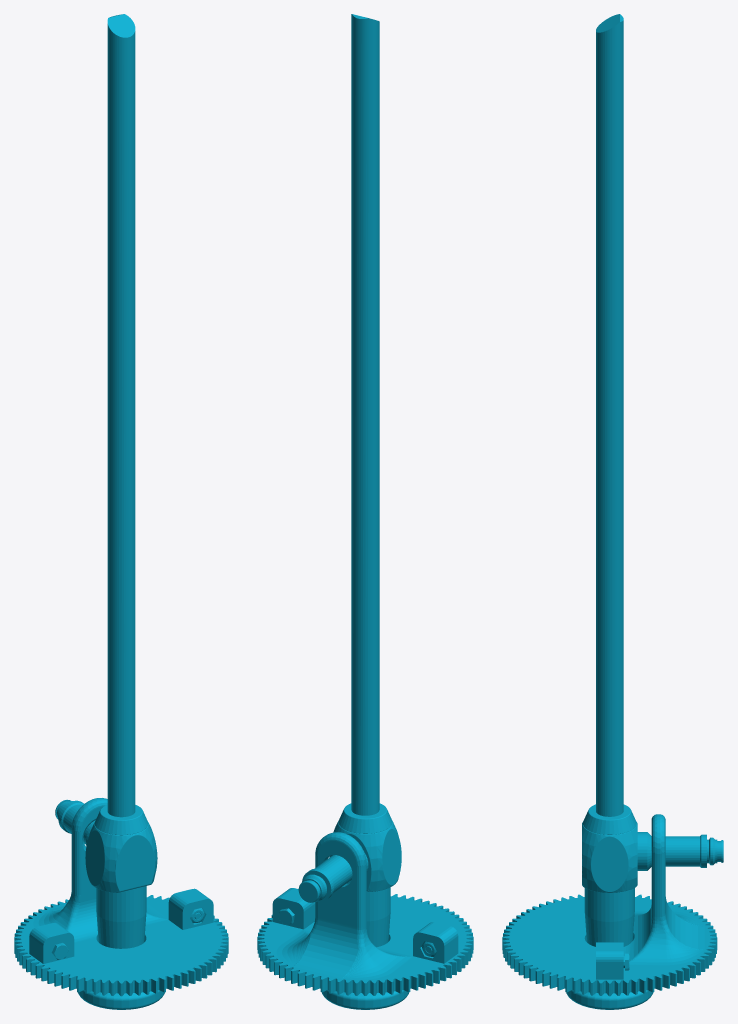
File: milc_optics_colorized.dae
3 views of the same model, side by side, from view 1: azimuth 30°, elevation 25°; view 2: azimuth 150°, elevation 25°; view 3: azimuth 270°, elevation 25° (orthographic).
Visible parts, largest first — view 1: node_001; view 2: node_001; view 3: node_001.
Boxes of the visible parts, bbox=[...] form: node_001: bbox=[14, 14, 228, 1009]; node_001: bbox=[257, 14, 473, 1009]; node_001: bbox=[502, 14, 723, 1009].
Bounding box in the file's own units: 7.7 × 7.93 × 38.55.
